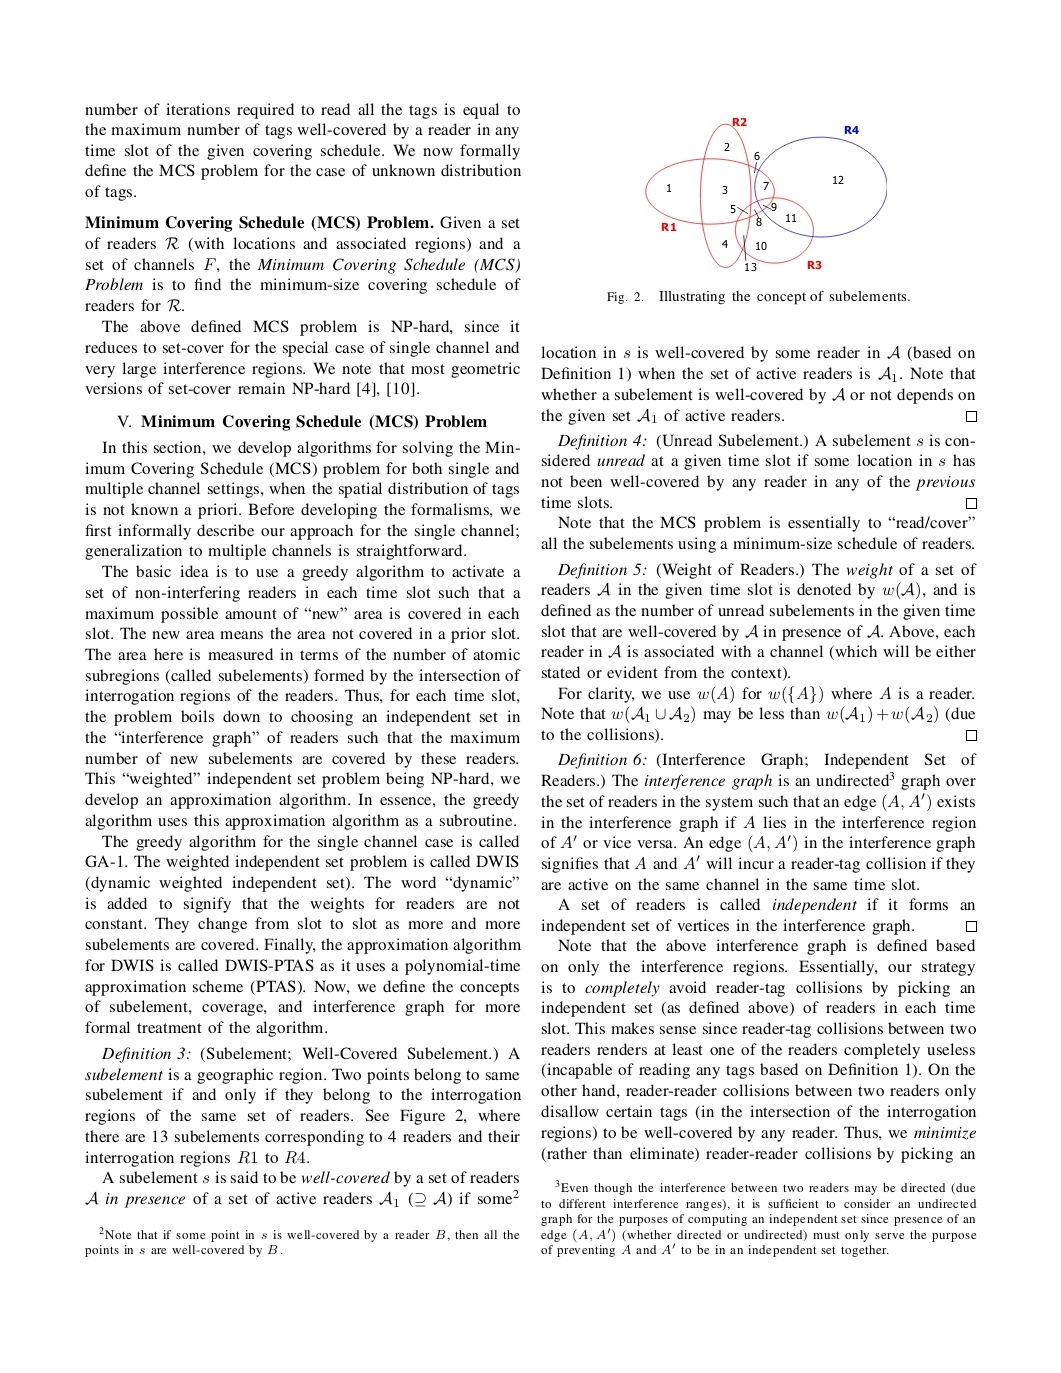figure: (645, 116, 886, 272)
